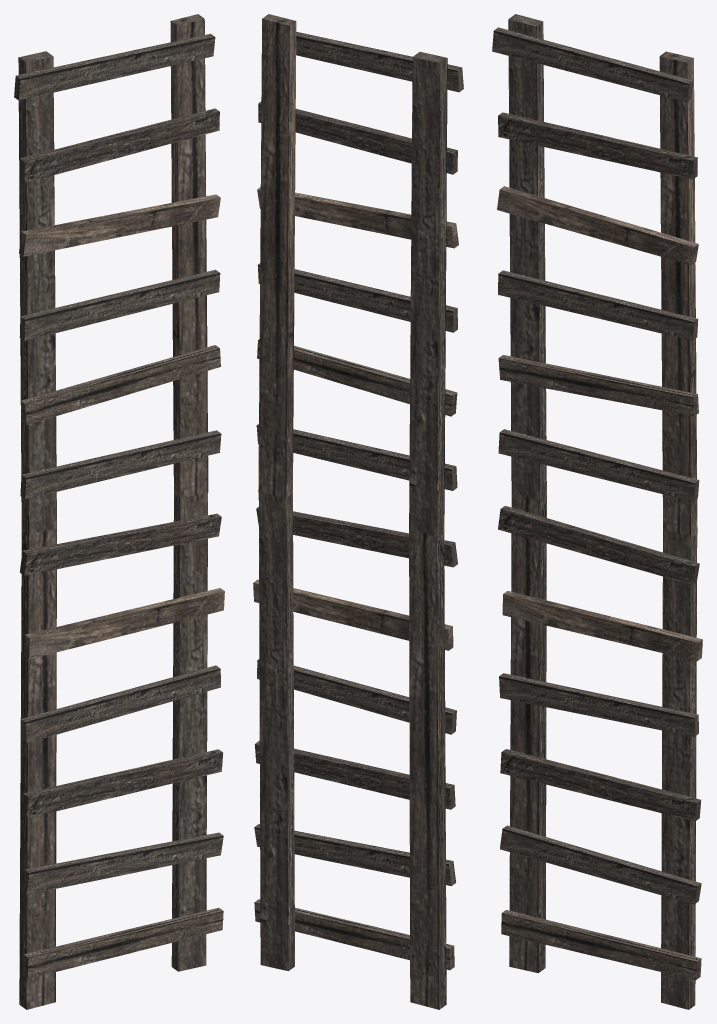
Rendered from WLad02.glb.
3 renders of one model, left to right at view 1: azimuth 30°, elevation 25°; view 2: azimuth 150°, elevation 25°; view 3: azimuth 330°, elevation 25°, orthographic.
Parts seen in each view (by area): view 1: _WLad02; view 2: _WLad02; view 3: _WLad02.
Part boxes in pixels (x1,y1,x2,y2): _WLad02: (14,14,224,1009); _WLad02: (253,14,463,1009); _WLad02: (492,14,702,1009).
Size of the model in its own units: 0.9102 by 4 by 0.0907.
Materials: 1 (1 with a texture image).
